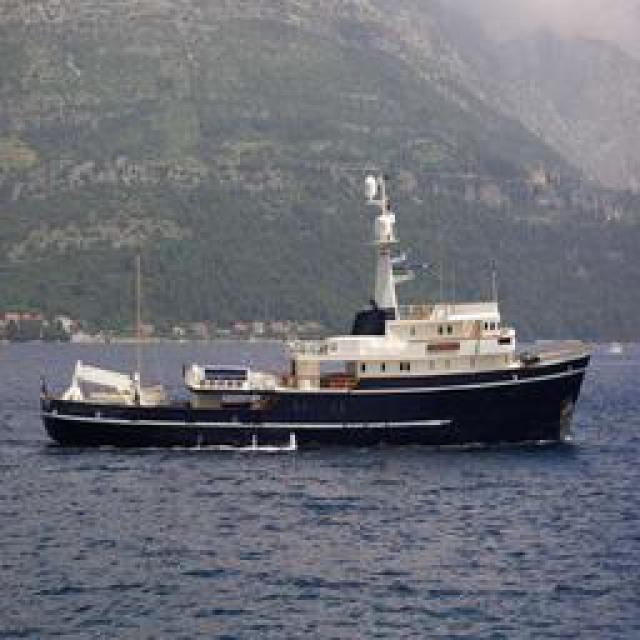Ship: (46, 271, 614, 451)
